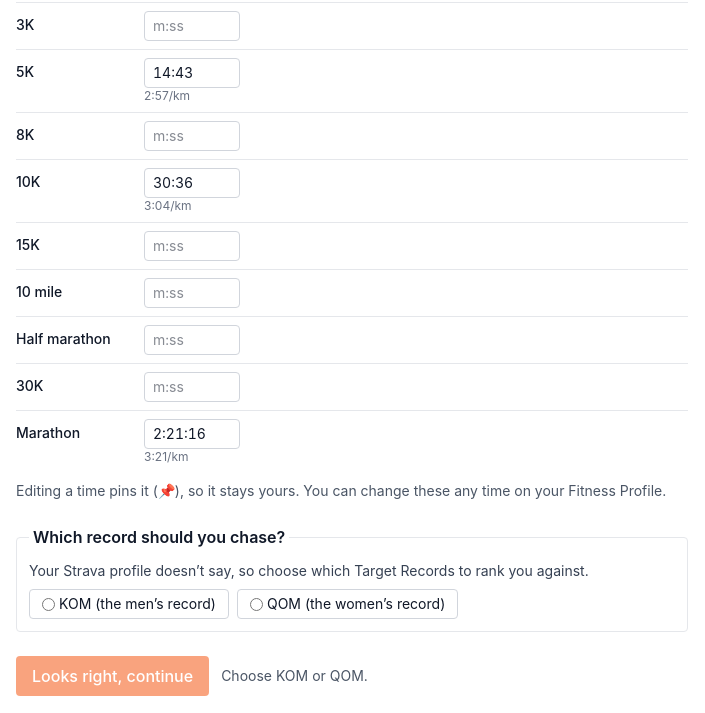
Test case: the first-run wizard › asks KOM or QOM when Strava has no sex set, and saves the answer
This screenshot has width=705, height=713.
(page scrolled)
Check: the button "Looks right, continue" is disabled, box [16,656,209,696]
Check: the text "Choose KOM or QOM." is shown, box [221,666,368,686]
Step 1. Click the radio button labelled "QOM (the women’s record)" → click(256, 604), box [250,598,263,610]
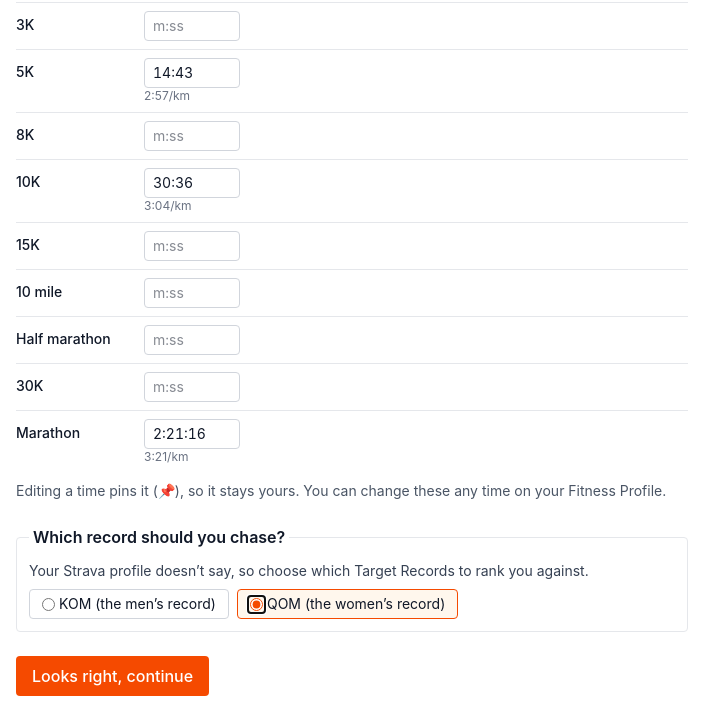
Check: the radio button labelled "QOM (the women’s record)" is checked, box [250,598,263,610]
Check: the button "Looks right, continue" is enabled, box [16,656,209,696]
